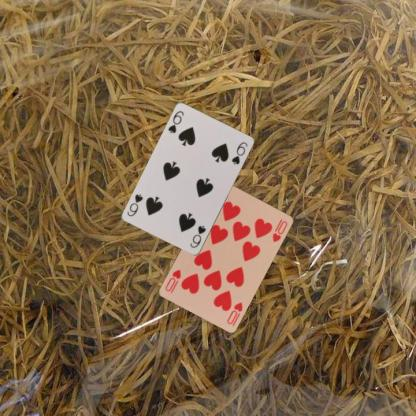10h: (224, 300, 244, 326)
6s: (165, 108, 185, 134), (188, 223, 207, 250)
